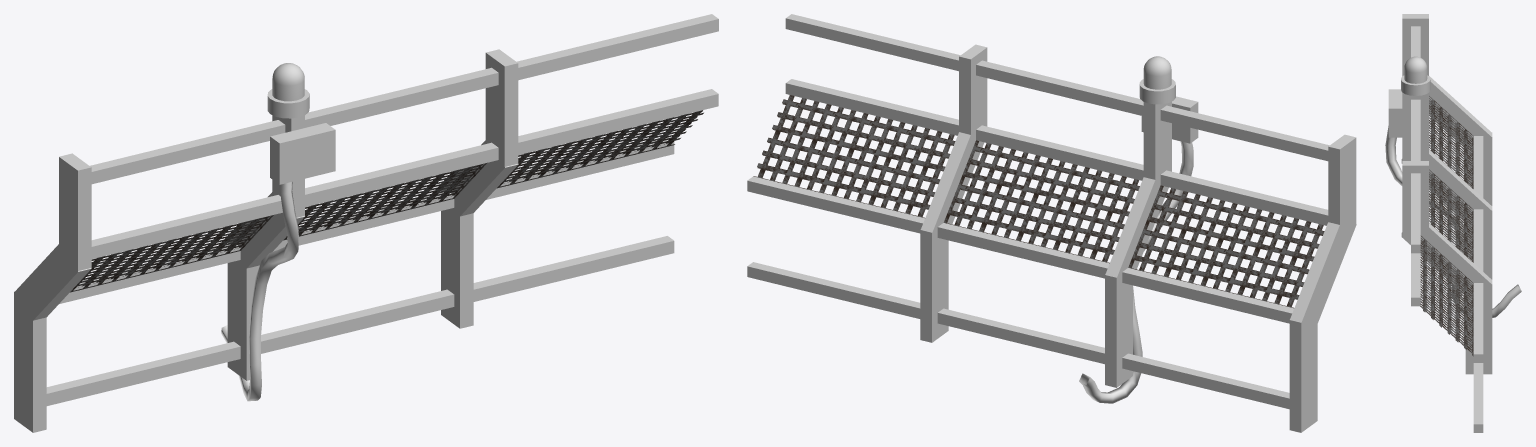
File: fence_3m_01.fbx
3 renders of one model, left to right at view 1: azimuth 30°, elevation 25°; view 2: azimuth 150°, elevation 25°; view 3: azimuth 270°, elevation 25°, orthographic. The views are drawn at different scales.
Parts seen in each view (by area): view 1: Cube.120, Cube.118, Cube.117, Cube.140, Cube.119, Cube.136, Cube.122, Cube.127, Cube.123, Cube.138, Cube.129, BezierCurve.012 (+6 smaller); view 2: Cube.136, Cube.119, Cube.117, Cube.120, Cube.118, Cube.140, Cube.122, Cube.121, Cube.127, Cube.124, Cube.128, Cube.123 (+6 smaller); view 3: Cube.136, Cube.140, Cube.119, Cube.128, Cube.117, Cube.121, Cube.125, Cube.129, Cube.126, Cube.127, BezierCurve.012, Cube.123 (+6 smaller).
Boxes of the visible parts, x1=… form: Cube.120: x1=46, y1=236, x2=674, y2=405; Cube.118: x1=91, y1=89, x2=718, y2=258; Cube.117: x1=90, y1=14, x2=718, y2=184; Cube.140: x1=70, y1=110, x2=703, y2=292; Cube.119: x1=59, y1=137, x2=674, y2=303; Cube.136: x1=78, y1=110, x2=702, y2=287; Cube.122: x1=14, y1=291, x2=46, y2=432; Cube.127: x1=441, y1=189, x2=473, y2=328; Cube.123: x1=59, y1=153, x2=91, y2=270; Cube.138: x1=270, y1=123, x2=335, y2=184; Cube.129: x1=485, y1=49, x2=518, y2=166; BezierCurve.012: x1=221, y1=182, x2=298, y2=401; Cube.136: x1=753, y1=95, x2=1324, y2=308; Cube.119: x1=747, y1=176, x2=1293, y2=323; Cube.117: x1=785, y1=14, x2=1329, y2=161; Cube.120: x1=747, y1=262, x2=1289, y2=409; Cube.118: x1=785, y1=79, x2=1328, y2=225; Cube.140: x1=758, y1=96, x2=1323, y2=306; Cube.122: x1=1289, y1=311, x2=1317, y2=432; Cube.121: x1=1290, y1=212, x2=1356, y2=322; Cube.127: x1=920, y1=229, x2=948, y2=342; Cube.124: x1=1105, y1=274, x2=1132, y2=387; Cube.128: x1=921, y1=122, x2=984, y2=244; Cube.123: x1=1328, y1=134, x2=1356, y2=224; Cube.136: x1=1420, y1=96, x2=1473, y2=353; Cube.140: x1=1420, y1=98, x2=1473, y2=356; Cube.119: x1=1473, y1=136, x2=1483, y2=362; Cube.128: x1=1401, y1=221, x2=1491, y2=299; Cube.117: x1=1411, y1=26, x2=1420, y2=253; Cube.121: x1=1429, y1=76, x2=1491, y2=152; Cube.125: x1=1401, y1=149, x2=1491, y2=226; Cube.129: x1=1402, y1=161, x2=1428, y2=237; Cube.126: x1=1402, y1=92, x2=1428, y2=160; Cube.127: x1=1465, y1=280, x2=1492, y2=374; BezierCurve.012: x1=1385, y1=126, x2=1521, y2=317; Cube.123: x1=1402, y1=14, x2=1428, y2=75.
Bounding box in the file's own units: 3032 × 1638 × 782.
